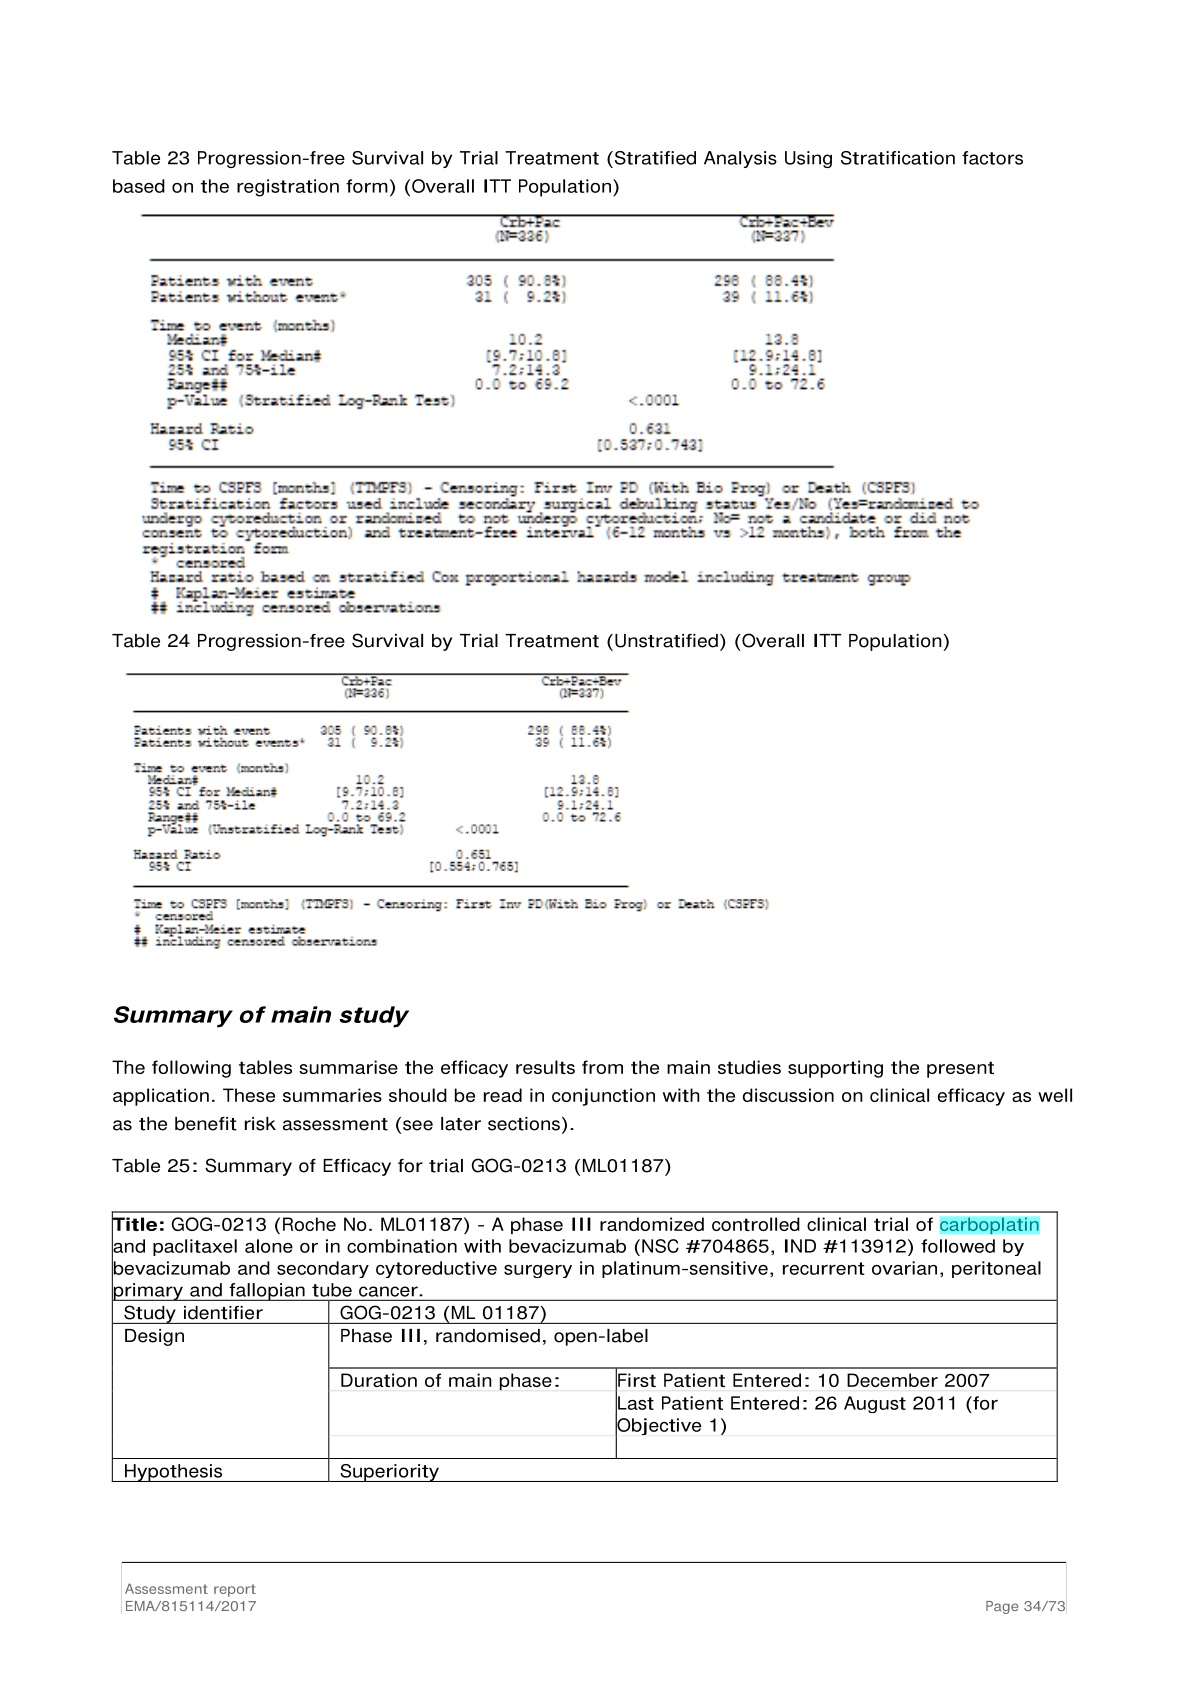merged_cells: (109, 1211, 1060, 1484)
partial_lined_merged_cells: (140, 213, 836, 469), (125, 672, 632, 890)
